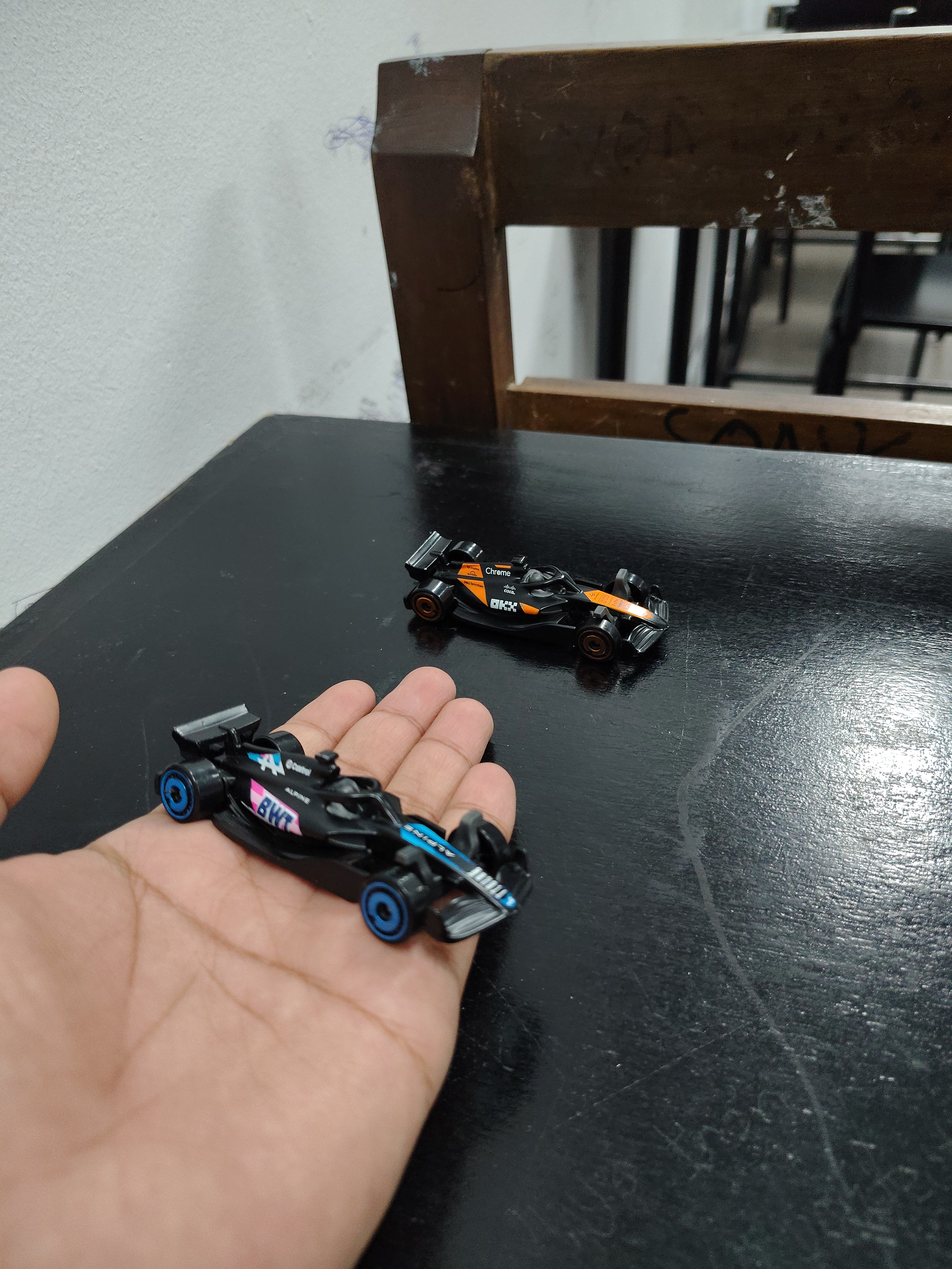Alpine A524: (110, 660, 549, 967)
McLaren MCL40: (367, 513, 707, 672)
